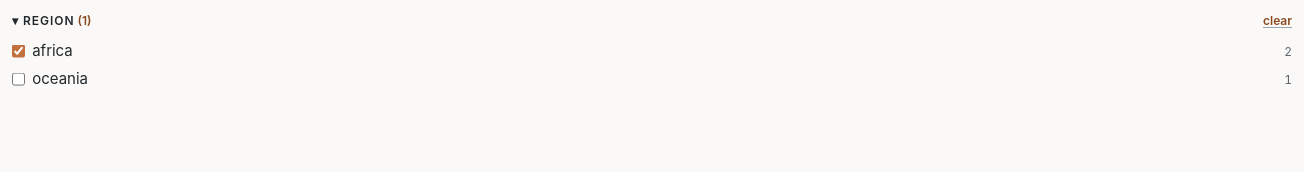
Test case: FacetGroup disclosure › keeps a group closed when the reader collapses it manually, selection and all
Click the button with test id "facet-toggle-region" at (52, 21), box [12,12,92,31]
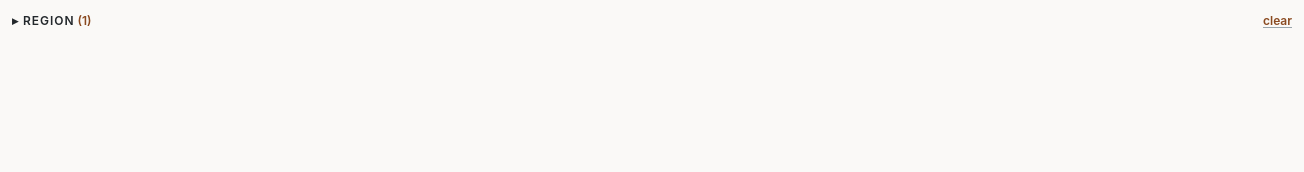
Check: the button with test id "facet-toggle-region" is collapsed, box [12,12,92,31]
